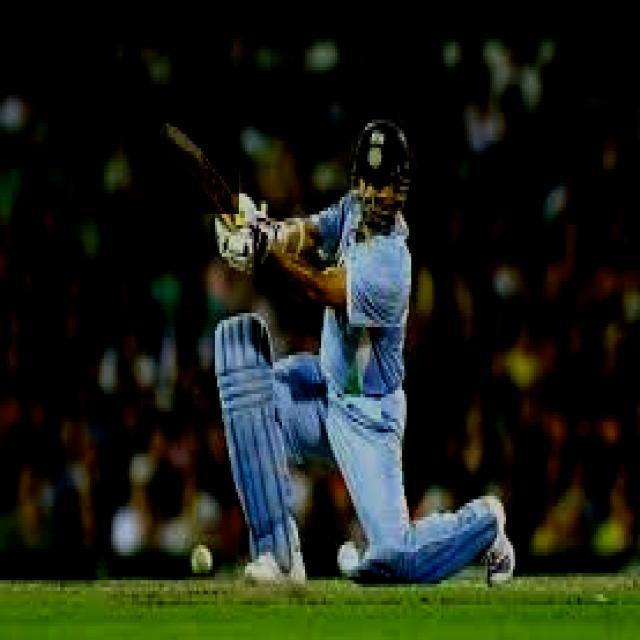bat: (126, 91, 260, 205)
